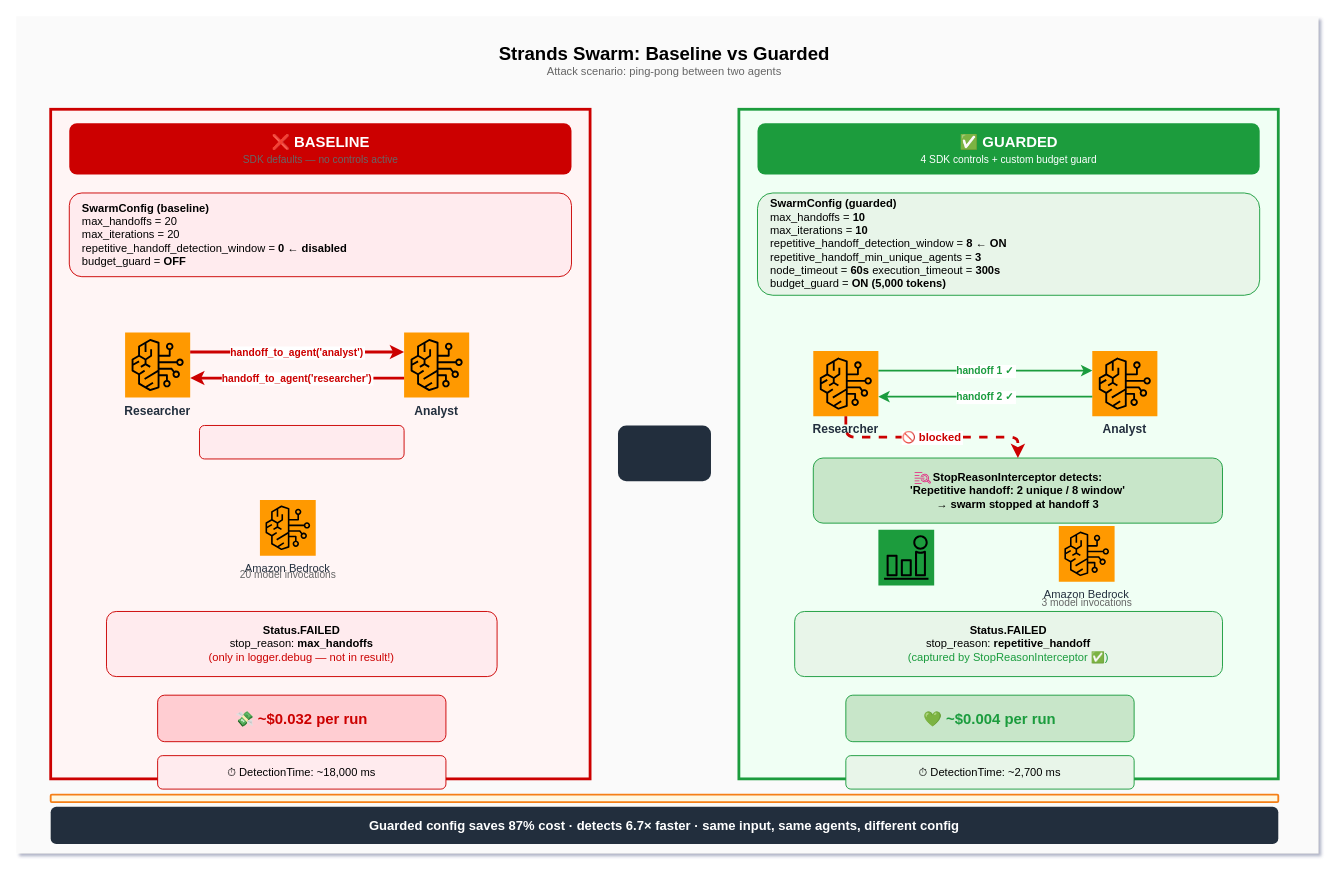
The diagram is 1339 pixels wide and 874 high, and some of its shapes have lost their labels. Each missing label, with the centre of its shape:
"Budget Guard" belongs at point (906, 557).
"VS" belongs at point (664, 453).
"🔄 repeats 20 times" belongs at point (301, 442).
